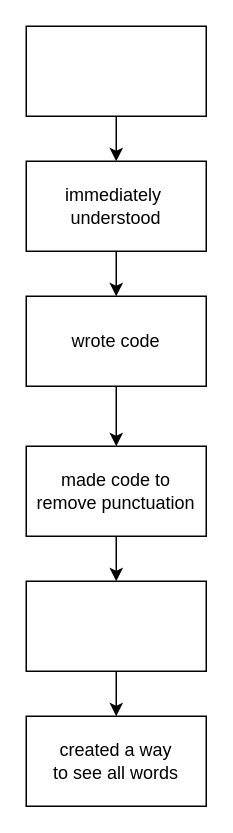
Some shapes in this 233 by 833 pixel diagram are drawn without their labels. The box of each missing label's shape, as (x1, y1, x2, y2) in pixels:
learned how to iterate through a hashmap: (25, 580, 206, 671)
Read the question: (25, 25, 206, 116)
